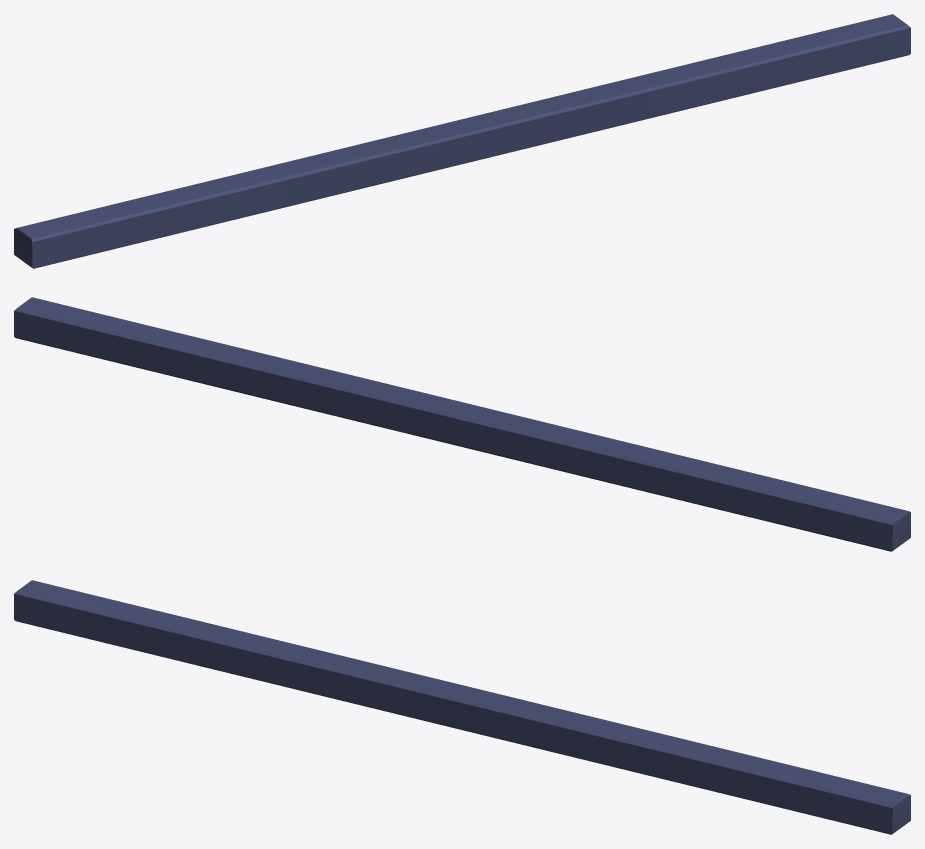
Rendered from groundBlock.fbx.
3 renders of one model, top to bottom at view 1: azimuth 30°, elevation 25°; view 2: azimuth 150°, elevation 25°; view 3: azimuth 330°, elevation 25°, orthographic.
Parts seen in each view (by area): view 1: mesh2; view 2: mesh2; view 3: mesh2.
Boxes of the visible parts, <box> form: mesh2: <box>14,14,910,268</box>; mesh2: <box>14,297,910,551</box>; mesh2: <box>14,580,910,834</box>.
Bounding box in the file's own units: 28.04 × 0.8827 × 1.01.
Materials: 1 (1 with a texture image).
